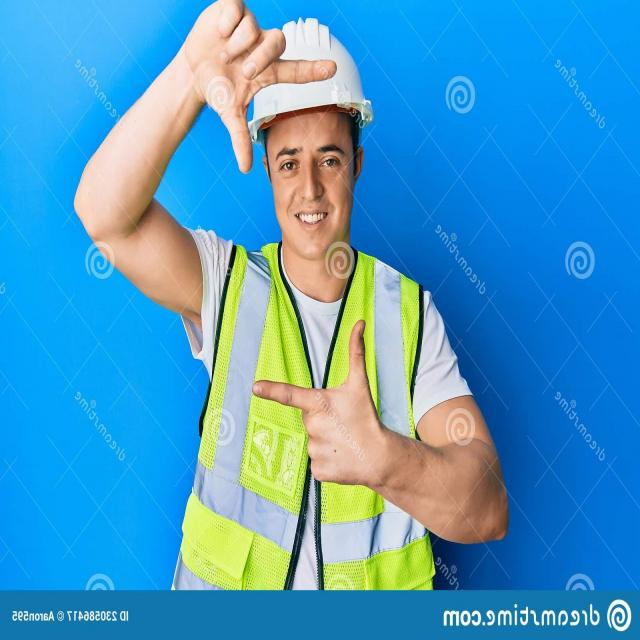Reflective-Jacket: (172, 248, 432, 592)
Safety-Helmet: (246, 17, 367, 134)
